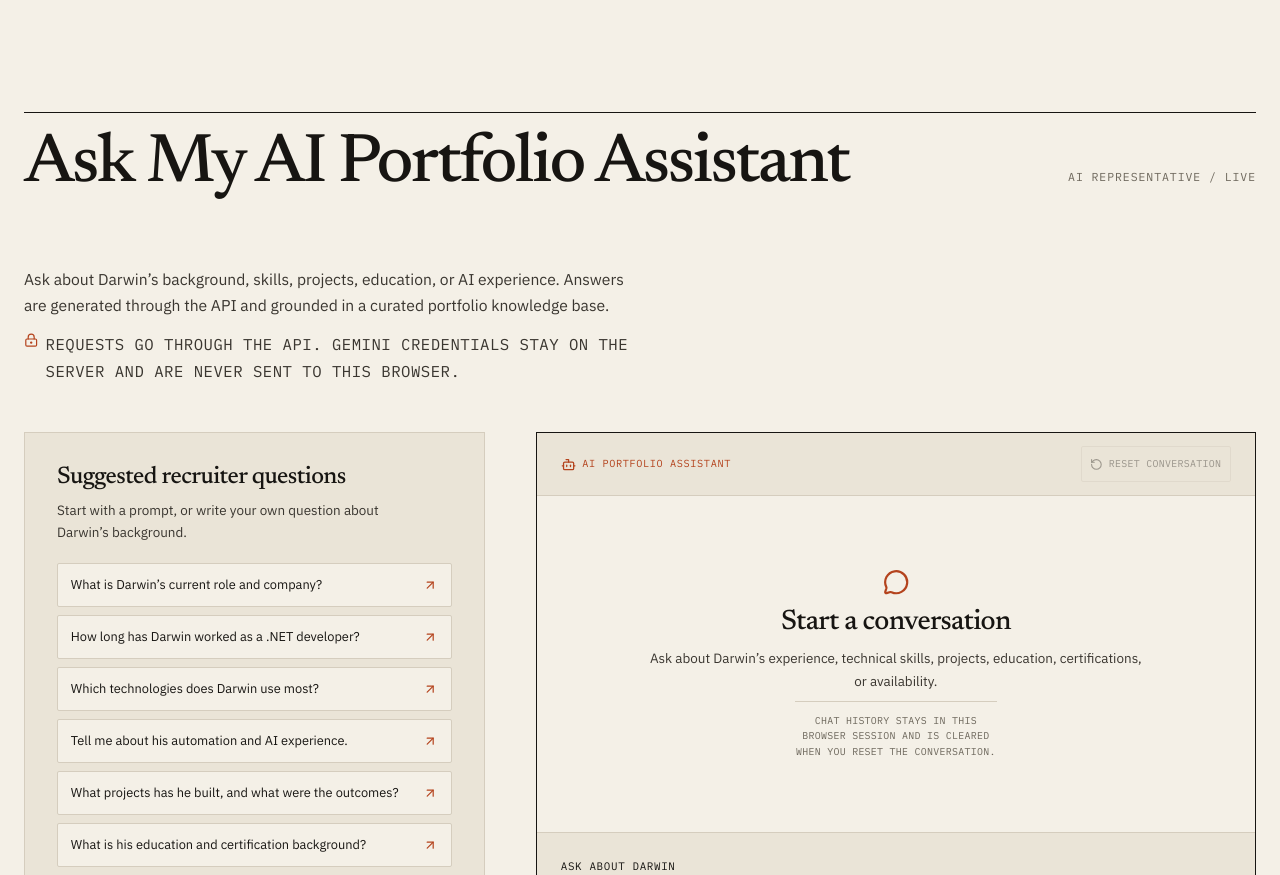
PortfolioAssistantSection › submits a suggested recruiter question
What coordinates should you click on to do the following:
click the 1st button with class "assistant__suggestion"
I would click on:
 (254, 585)
Its box is [57,563,452,607].
(page scrolled)
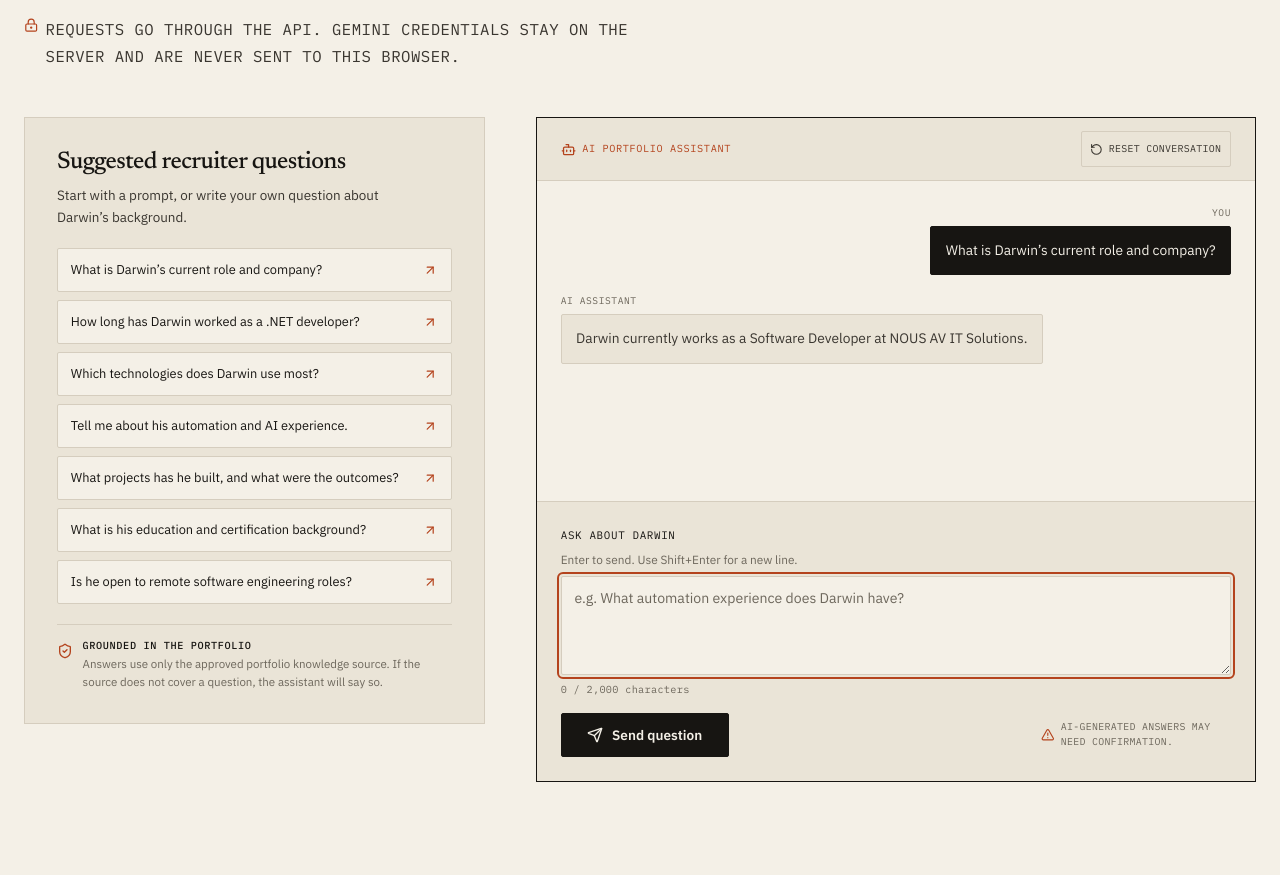
Now the list item with class "assistant__message--assistant" shows "Darwin currently works as a Software Developer at NOUS AV IT Solutions.", box [576,329,1027,347]
